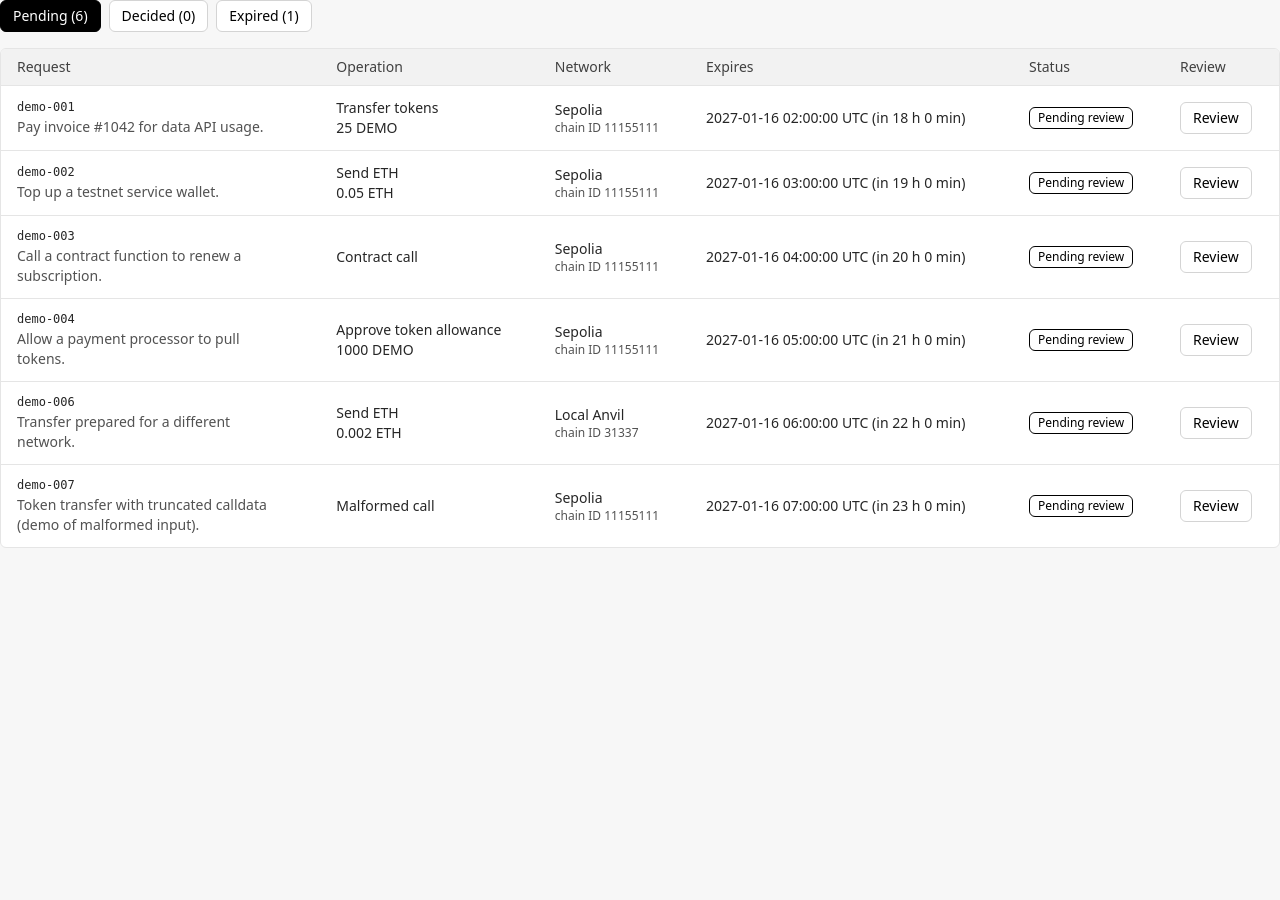
ApprovalWorkspace review › labels undecoded and malformed calldata instead of guessing
This screenshot has width=1280, height=900.
Click the button "Review" in the row of "Contract call".
click(1216, 257)  # box [1180,241,1252,273]
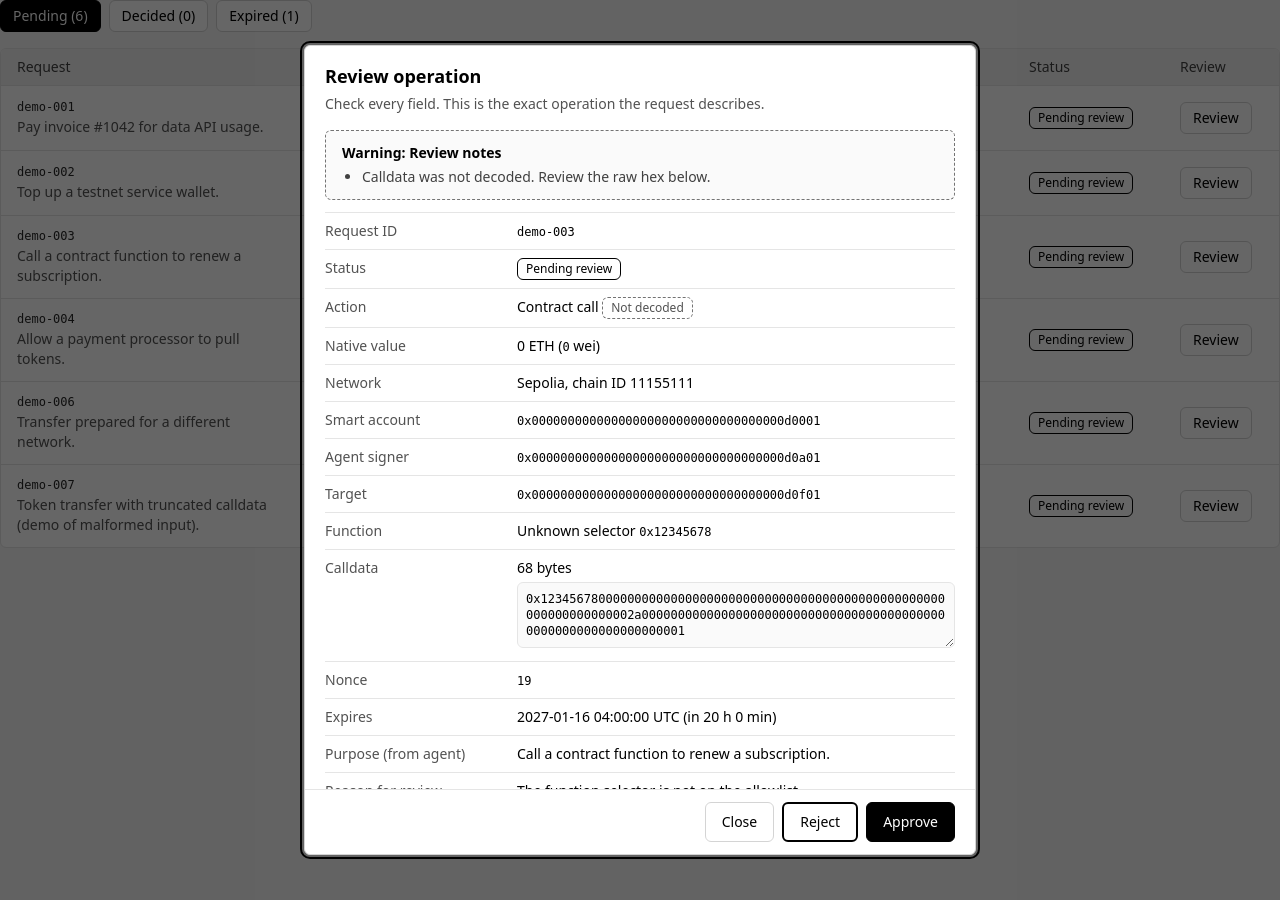
Now the text "Not decoded" is shown, box [602,297,693,319]
Now the text "Unknown selector 0x12345678" is shown, box [517,521,712,540]
Click the button "Close".
click(739, 822)  # box [705,802,774,842]
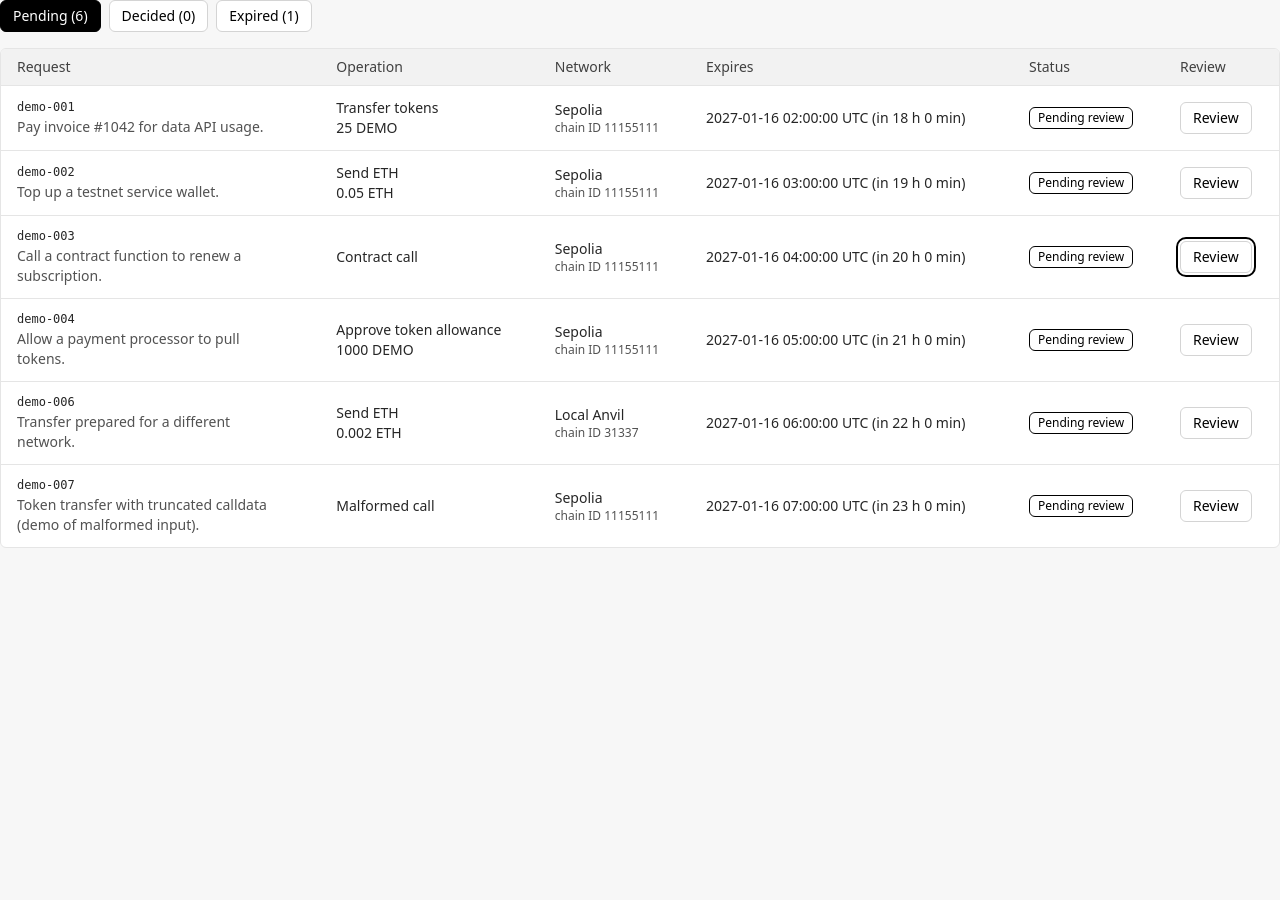
Click the button "Review" in the row of "Malformed call".
click(1216, 506)  # box [1180,490,1252,522]
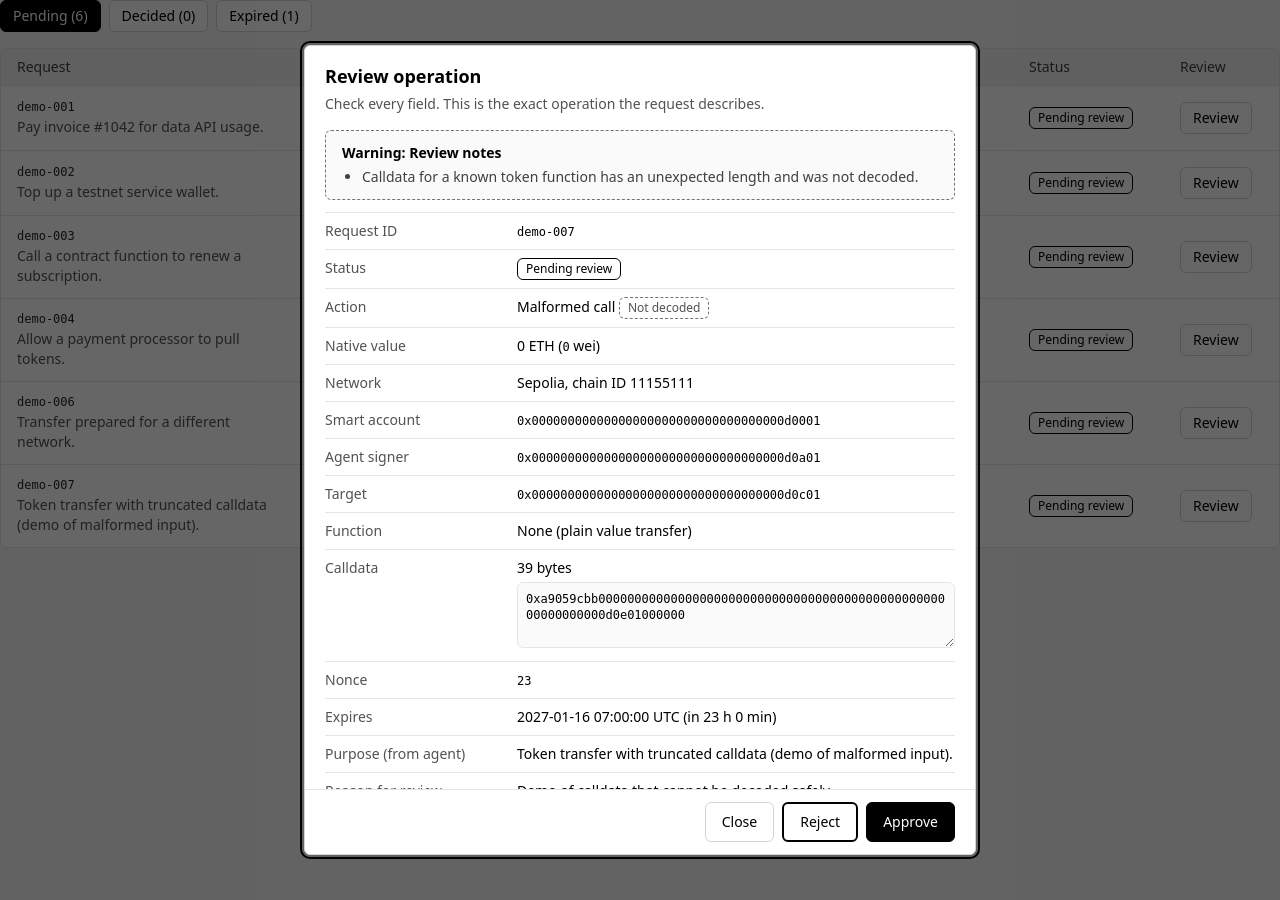
Now the text "Malformed call" is shown, box [517,297,615,316]
Now the list item "unexpected length" is shown, box [362,167,918,186]
